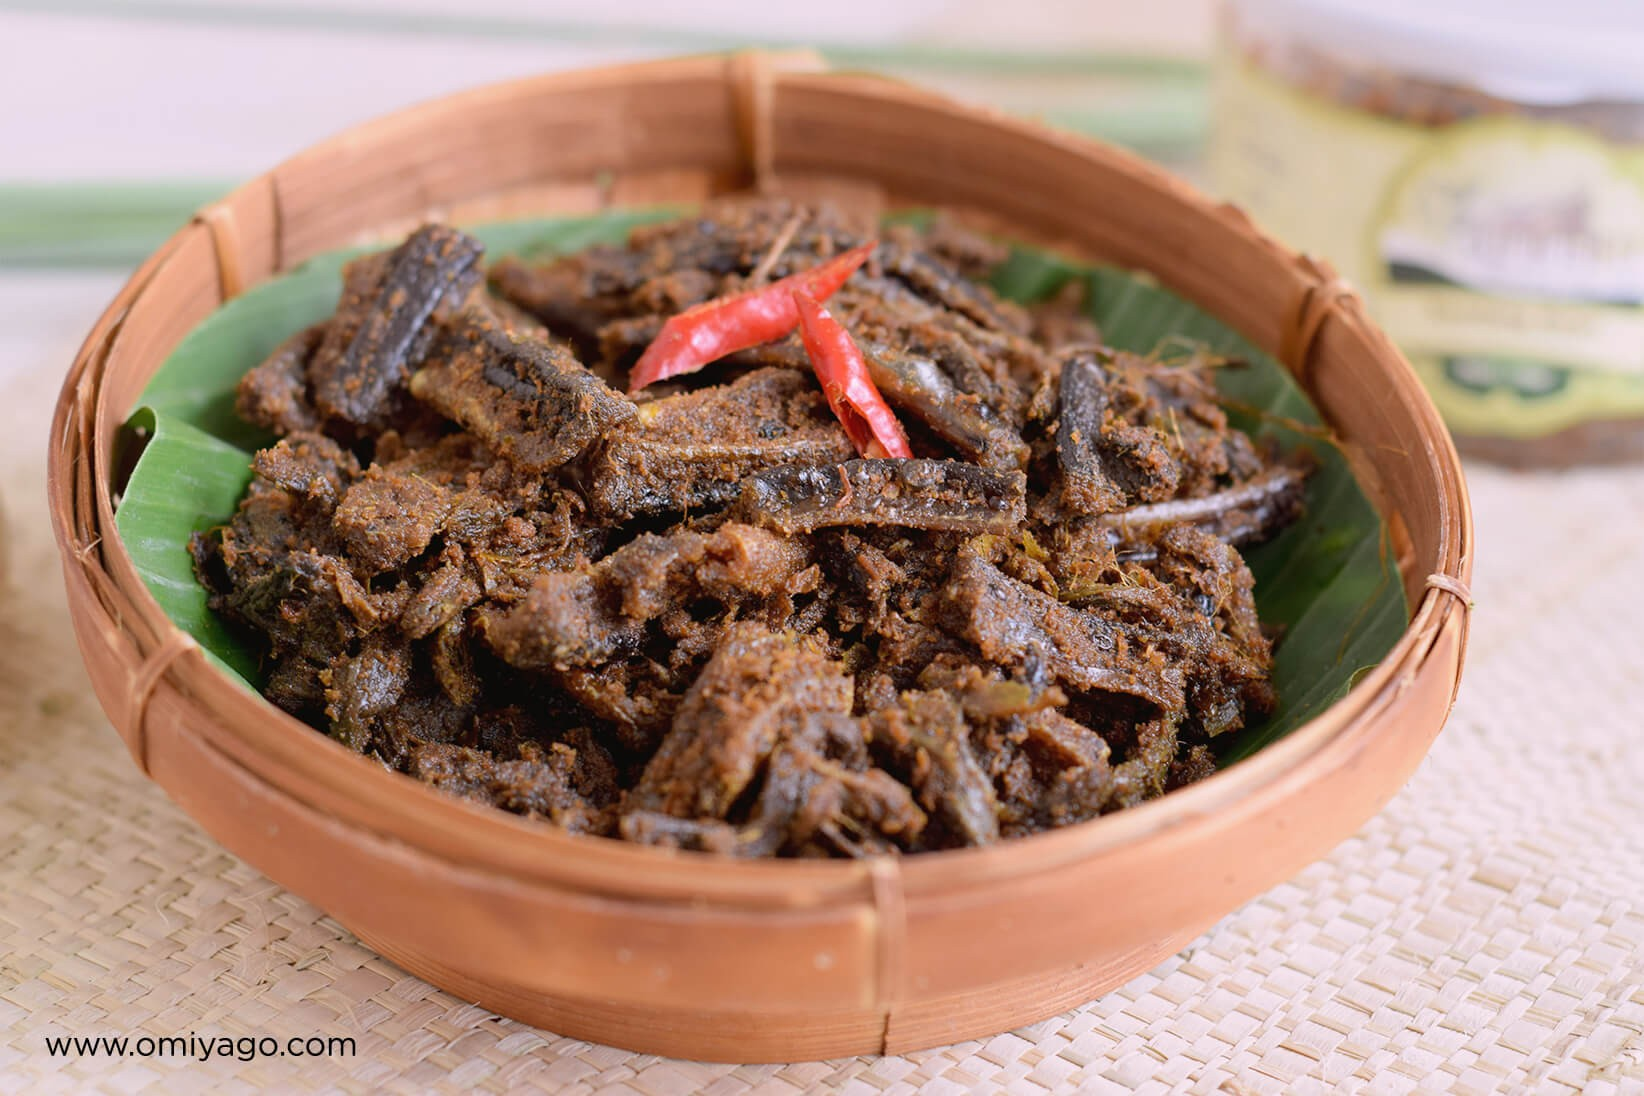rendang: (152, 131, 1349, 961)
